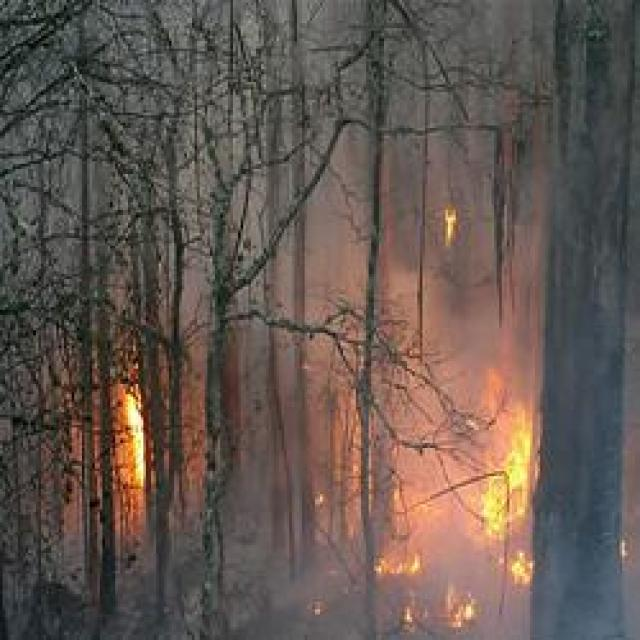fire: (461, 358, 544, 583), (111, 380, 149, 491), (372, 544, 435, 584), (437, 591, 483, 633), (433, 203, 468, 256)
